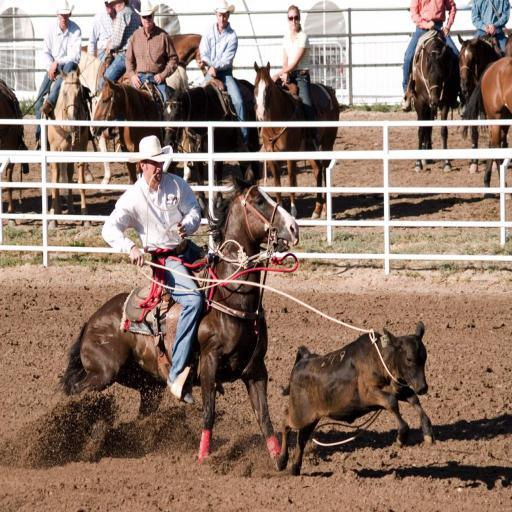Horse: (55, 174, 300, 464), (80, 50, 193, 186), (252, 61, 340, 220), (162, 82, 254, 228), (459, 53, 512, 199), (408, 36, 461, 171), (46, 70, 90, 229), (458, 32, 503, 174), (80, 33, 210, 77), (0, 82, 25, 228), (504, 33, 512, 55)
